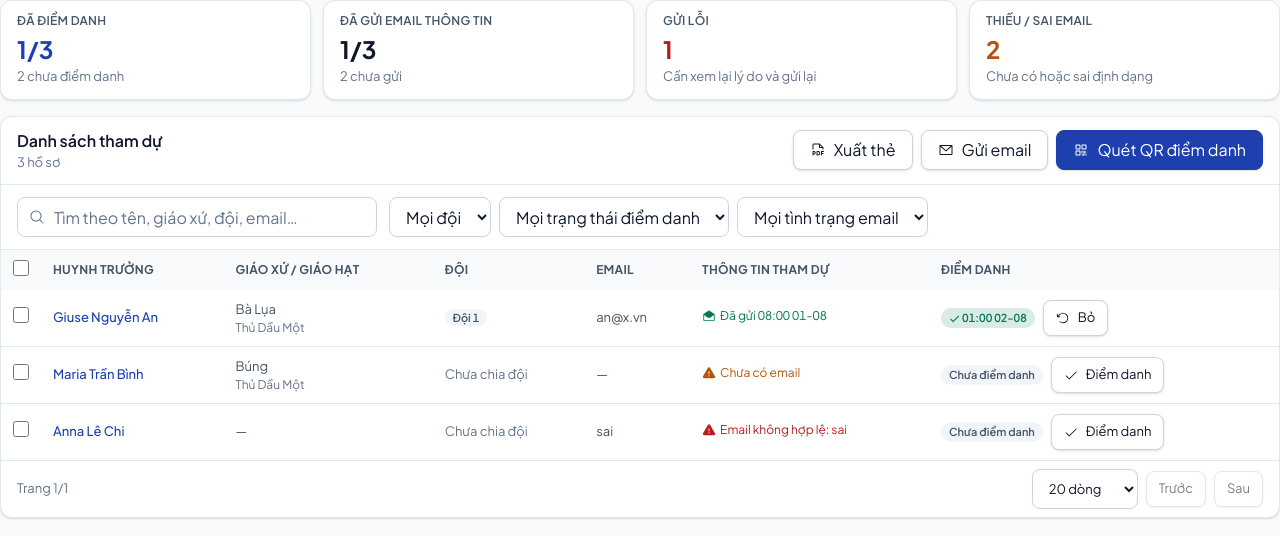
CourseParticipantsHub › sends filters to the server and resets to the first page
Expected: the button "Giuse Nguyễn An" is shown, [53, 308, 158, 328]
Select "Đội 2" in the dropdown named "Lọc theo đội" at coordinates (440, 217), box [389, 197, 491, 237]
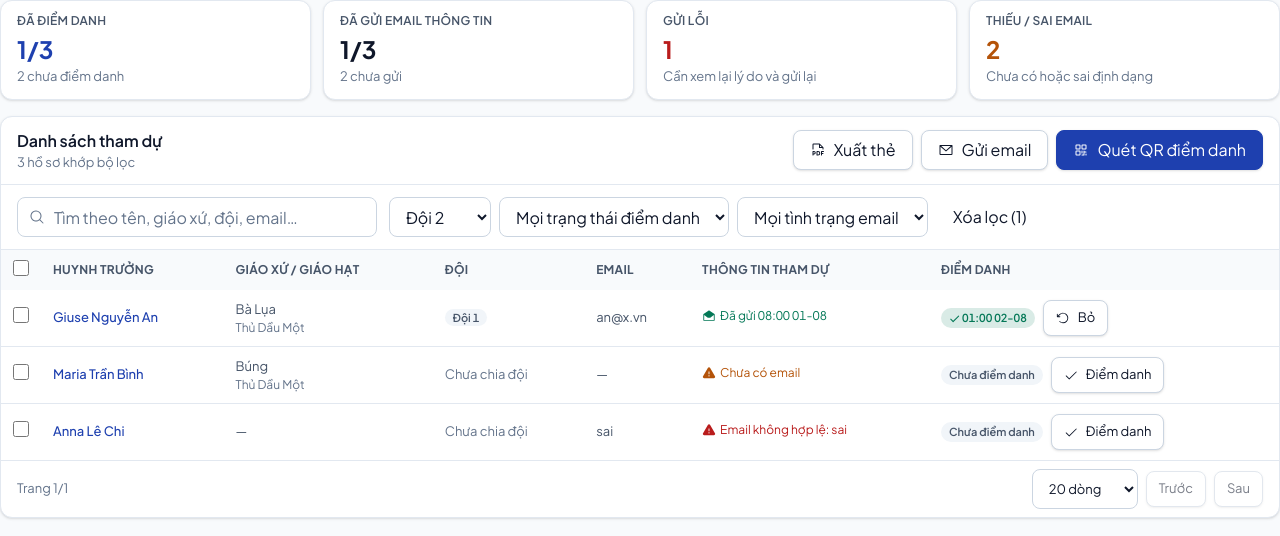
Select "Gửi lỗi" in the dropdown named "Lọc theo email" at coordinates (832, 217), box [737, 197, 928, 237]
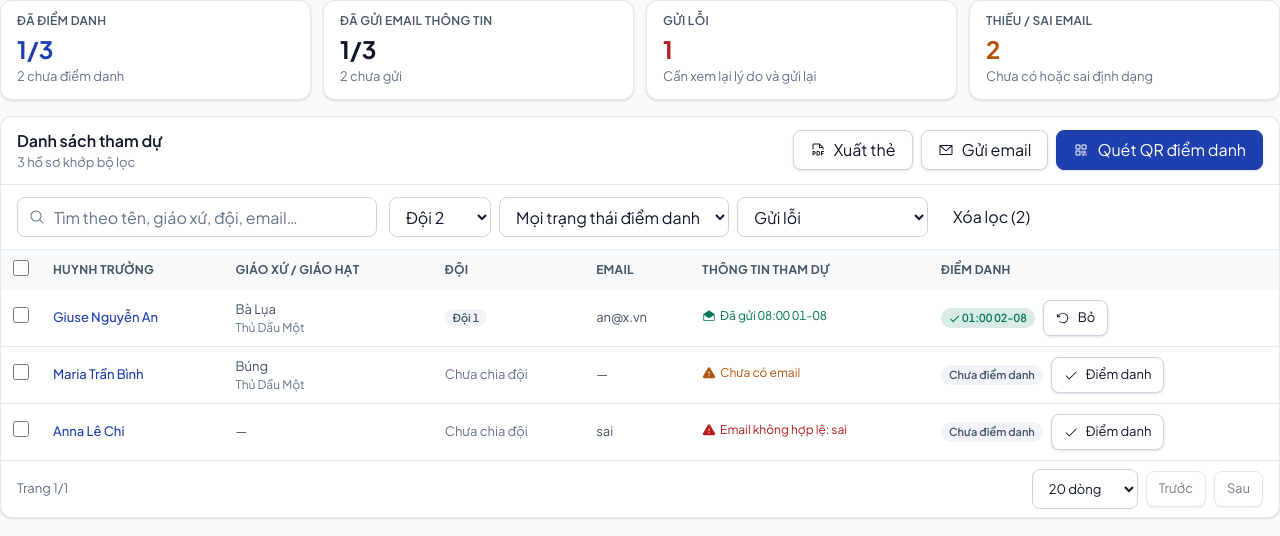
Select "Chưa điểm danh" in the dropdown named "Lọc theo điểm danh" at coordinates (614, 217), box [499, 197, 729, 237]
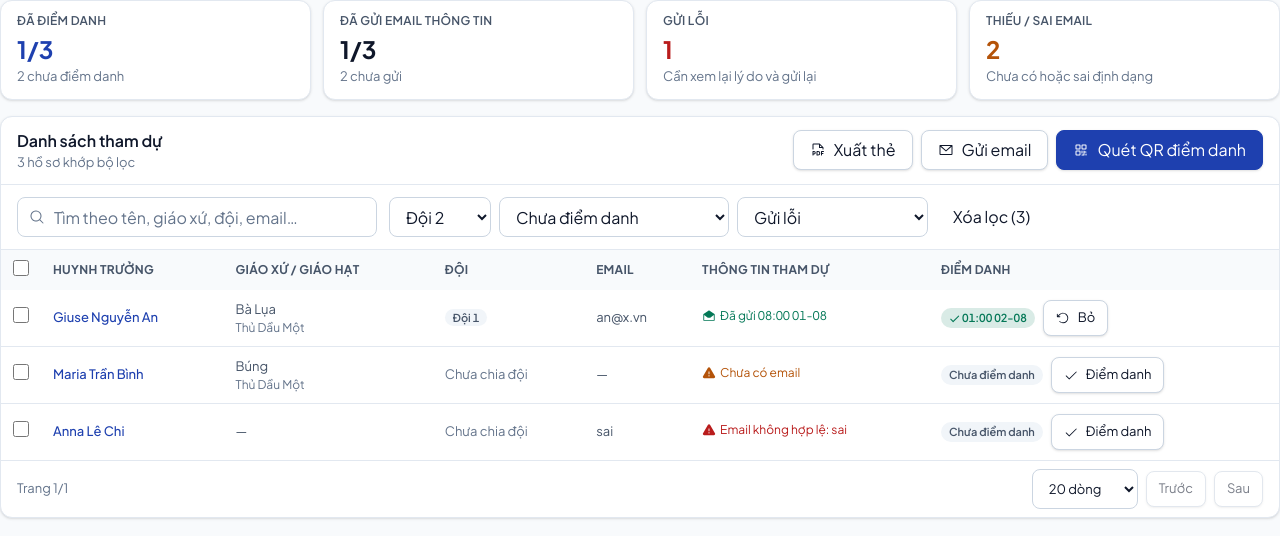
Result: the button "Xóa lọc (3)" is shown
Click the button "Xóa lọc (3)" at coordinates (992, 217), box [936, 197, 1047, 237]
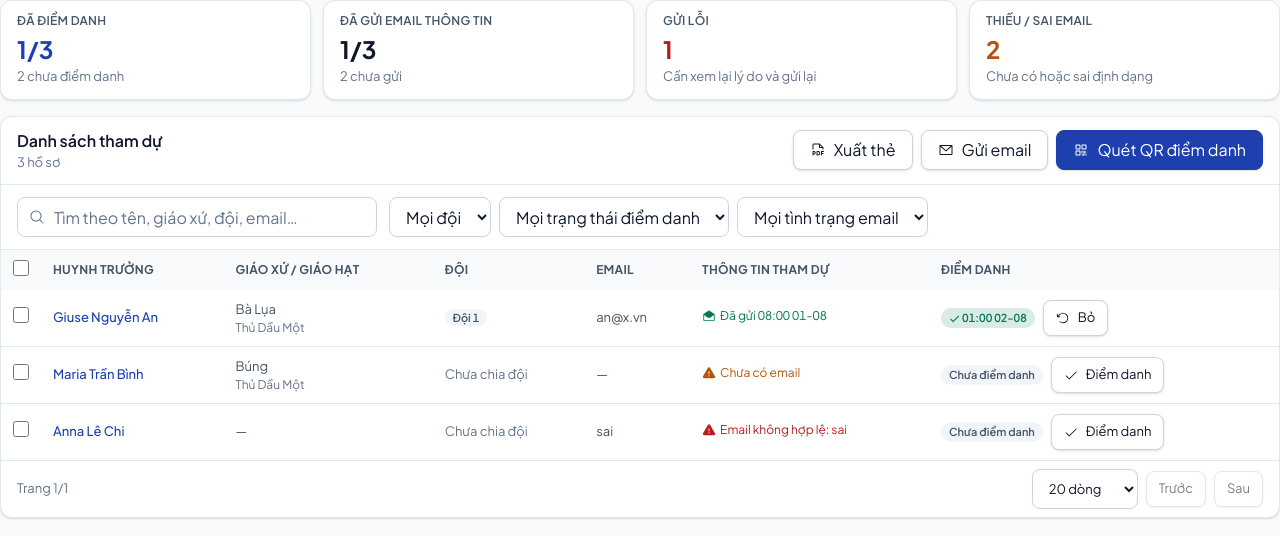
Result: the button "Xóa lọc" is gone
